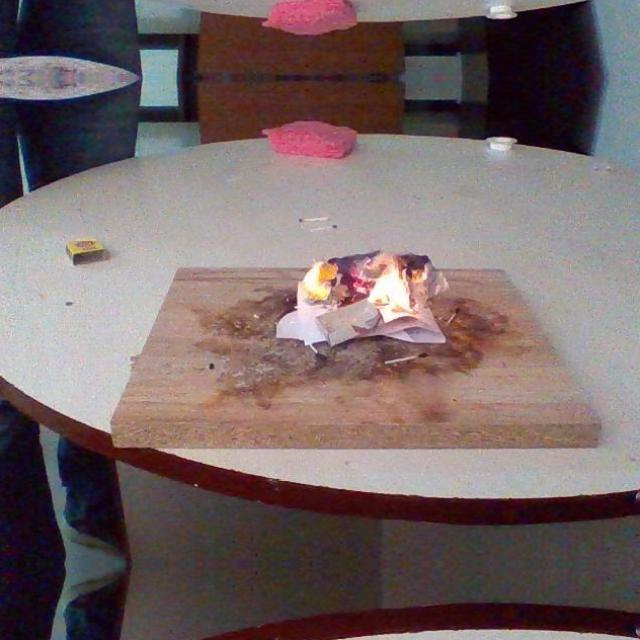smoke: (364, 262, 412, 316), (298, 254, 340, 304)
